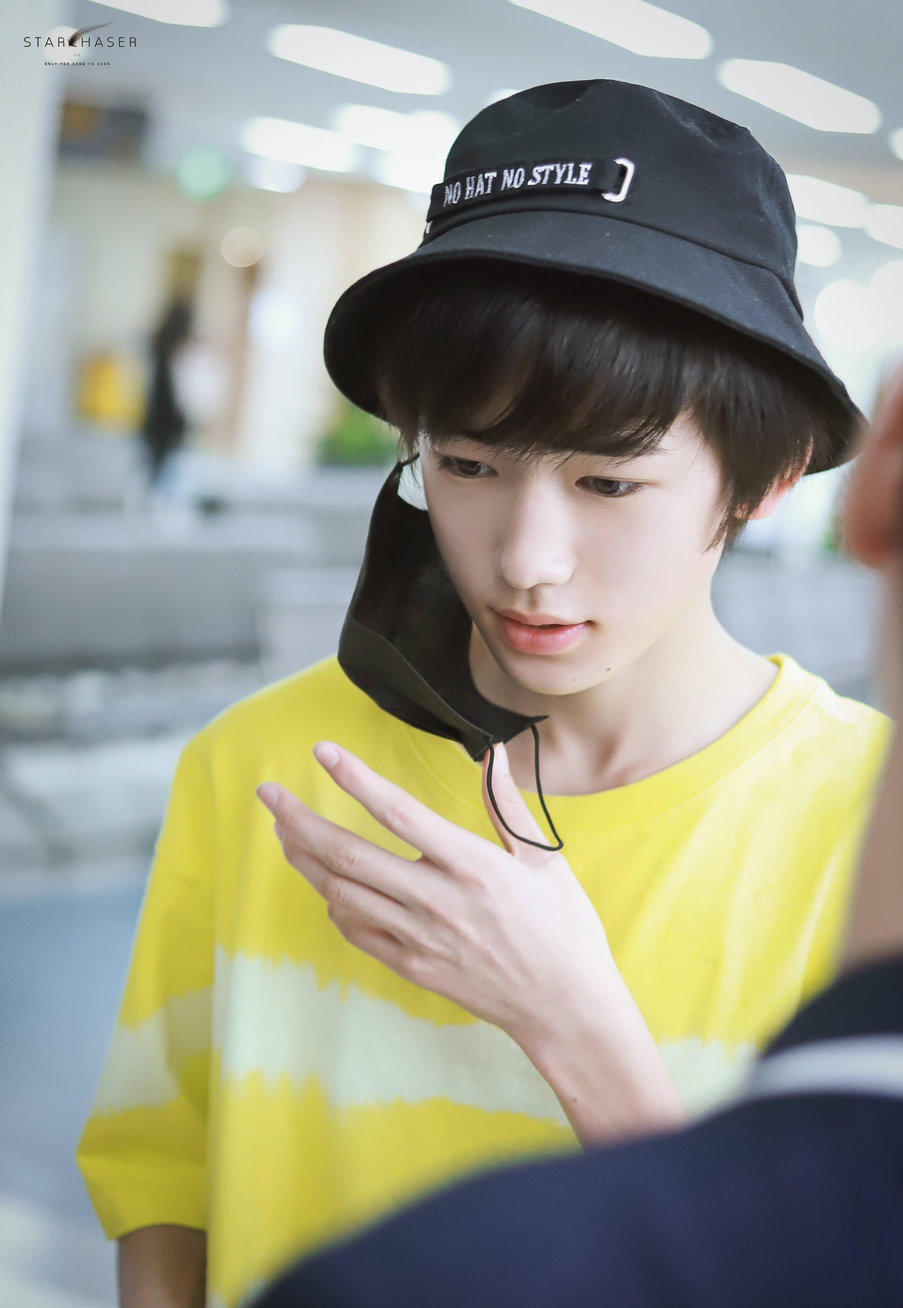WRONG: (418, 395, 688, 702)
